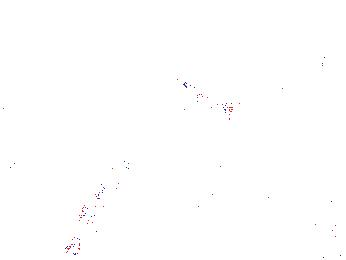X-ray fish: (216, 168, 239, 214)
glassfish: (69, 158, 134, 253), (193, 131, 273, 195)
red belly glassfish: (315, 52, 345, 72)
redtail glassfish: (176, 78, 237, 121)
